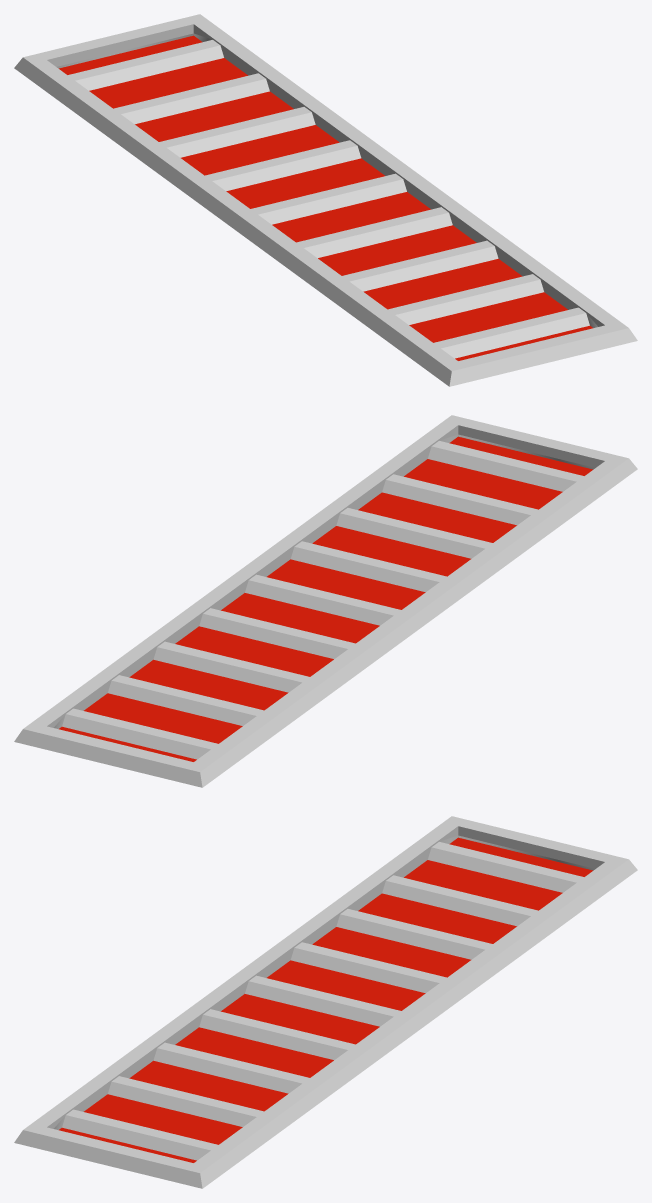
Rendered from ME_GutterGrid.fbx.
3 renders of one model, top to bottom at view 1: azimuth 30°, elevation 25°; view 2: azimuth 150°, elevation 25°; view 3: azimuth 330°, elevation 25°, orthographic.
Parts seen in each view (by area): view 1: Plane.004; view 2: Plane.004; view 3: Plane.004.
Part boxes in pixels (x1,y1,x2,y2): Plane.004: (14, 14, 637, 386); Plane.004: (14, 415, 637, 787); Plane.004: (14, 816, 637, 1188).
Size of the model in its own units: 50 by 3 by 200.
